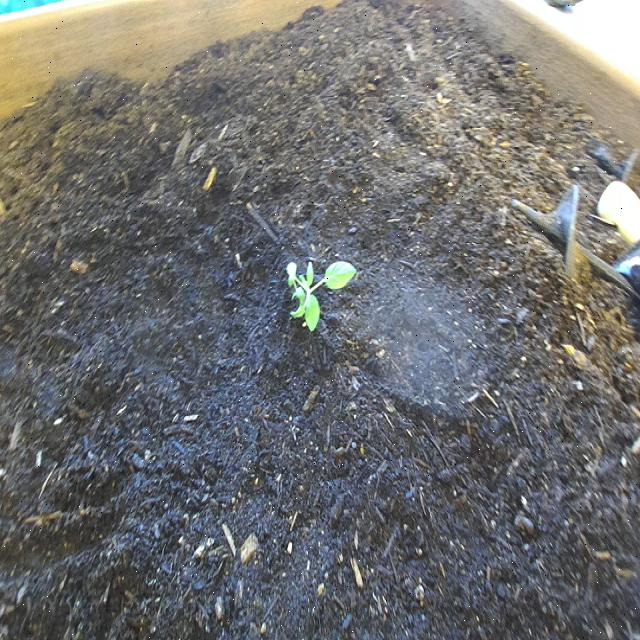Healthy: (282, 255, 360, 338)
